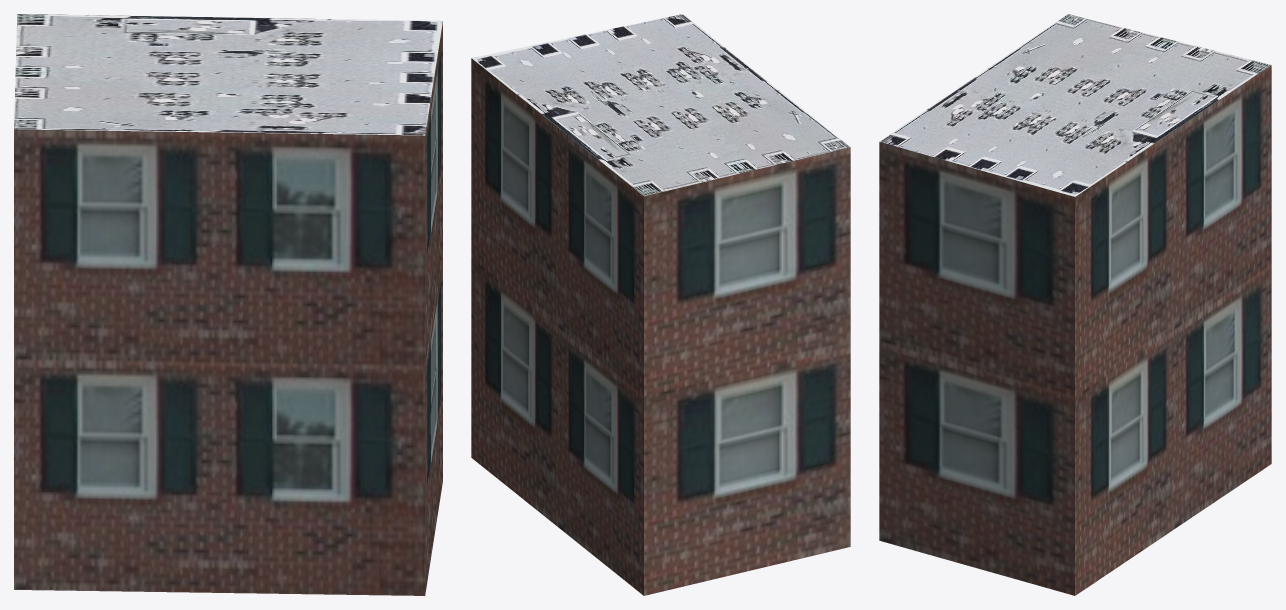
The model's file is ResTex__5193.fbx.
3 views of the same model, side by side, from view 1: azimuth 30°, elevation 25°; view 2: azimuth 150°, elevation 25°; view 3: azimuth 270°, elevation 25° (orthographic). The views are drawn at different scales.
Parts seen in each view (by area): view 1: CityEngineMaterial_14_m, CityEngineMaterial_8_m; view 2: CityEngineMaterial_14_m, CityEngineMaterial_8_m; view 3: CityEngineMaterial_14_m, CityEngineMaterial_8_m.
Boxes of the visible parts, x1=… form: CityEngineMaterial_14_m: x1=14, y1=22, x2=442, y2=595; CityEngineMaterial_8_m: x1=14, y1=14, x2=442, y2=135; CityEngineMaterial_14_m: x1=471, y1=58, x2=850, y2=595; CityEngineMaterial_8_m: x1=471, y1=14, x2=849, y2=196; CityEngineMaterial_14_m: x1=879, y1=65, x2=1271, y2=595; CityEngineMaterial_8_m: x1=879, y1=14, x2=1271, y2=196.
Size of the model in its own units: 5.9 by 6 by 5.35.
Materials: 2 (2 with a texture image).
